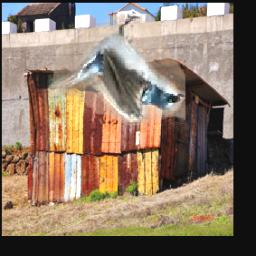Swallow: (50, 14, 186, 125)
